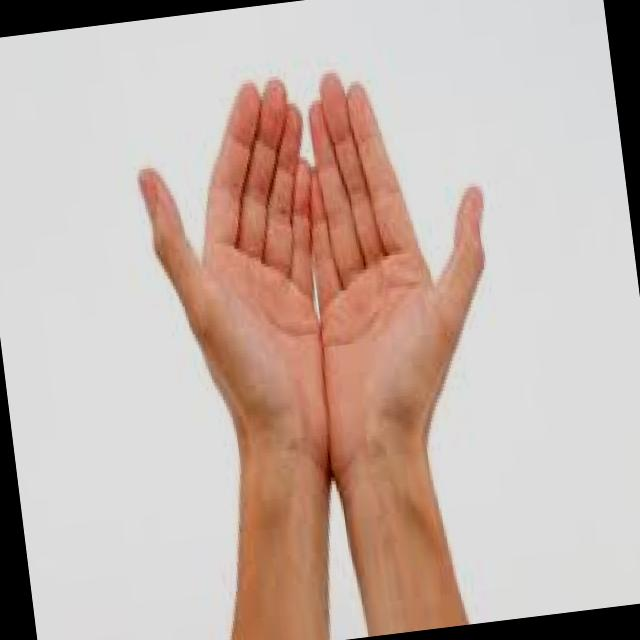Hand: (278, 44, 520, 494), (124, 63, 350, 495)
